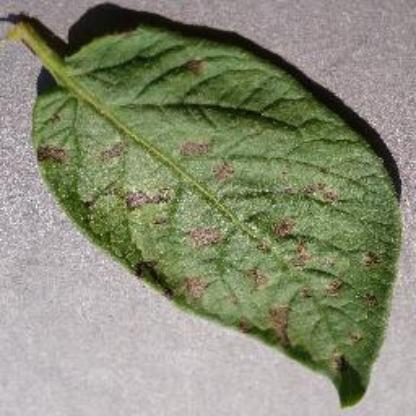Early-Blight: (2, 15, 404, 399)
